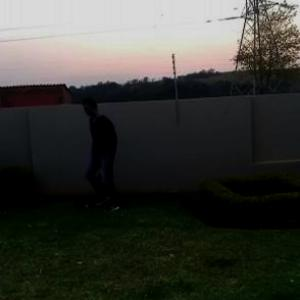follow: (91, 99, 122, 204)
